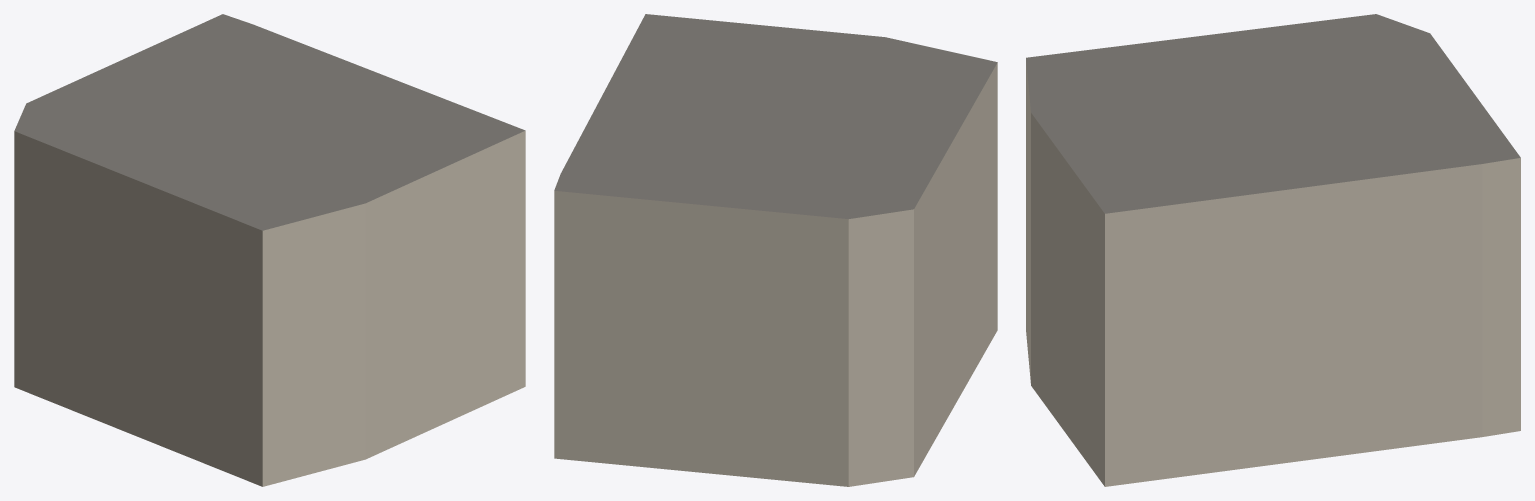
3 views of the same model, side by side, from view 1: azimuth 30°, elevation 25°; view 2: azimuth 150°, elevation 25°; view 3: azimuth 270°, elevation 25° (orthographic). The views are drawn at different scales.
Visible parts, largest first — view 1: HP-w380339953; view 2: HP-w380339953; view 3: HP-w380339953.
Boxes of the visible parts, box(x1,y1,x2,y2) form: HP-w380339953: box(14, 14, 525, 486); HP-w380339953: box(554, 14, 997, 486); HP-w380339953: box(1026, 14, 1520, 486).
Size of the model in its own units: 28.24 by 18 by 29.56.
